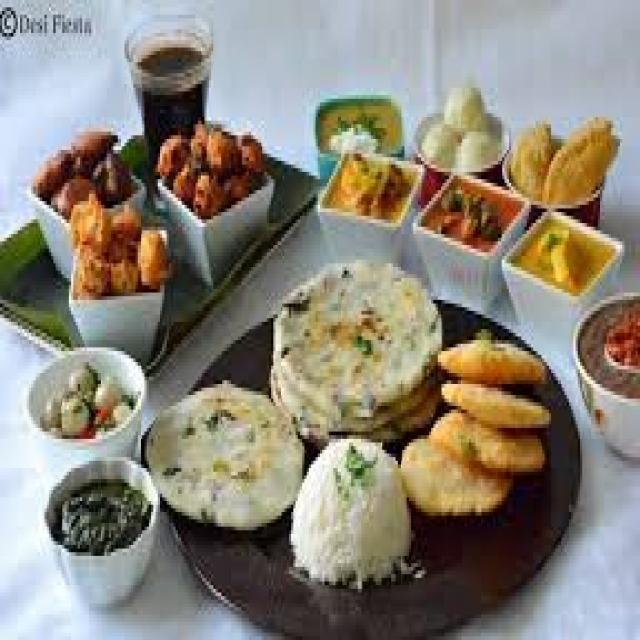dal: (151, 369, 298, 540)
rice: (274, 235, 438, 445), (286, 427, 425, 600)
sweet: (576, 295, 640, 409)
veg-fry: (159, 106, 271, 233), (506, 108, 621, 220)
